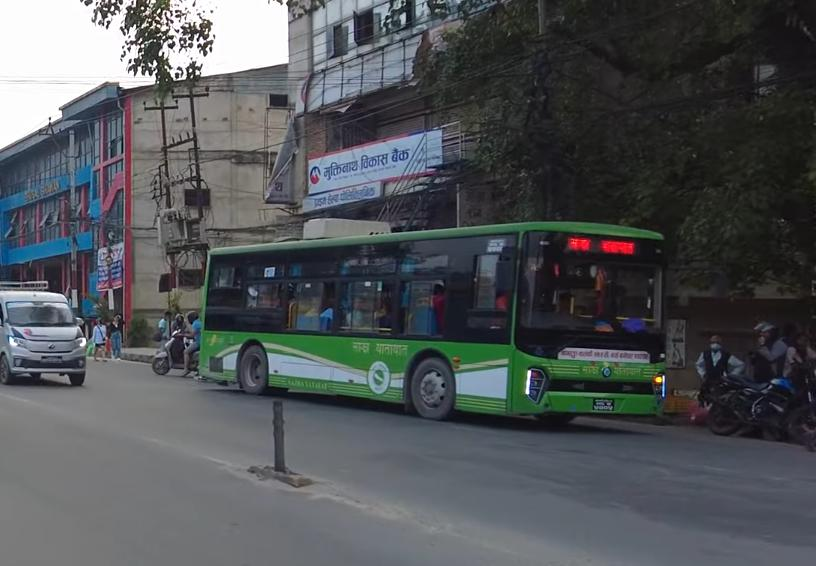bus: (195, 217, 679, 432)
